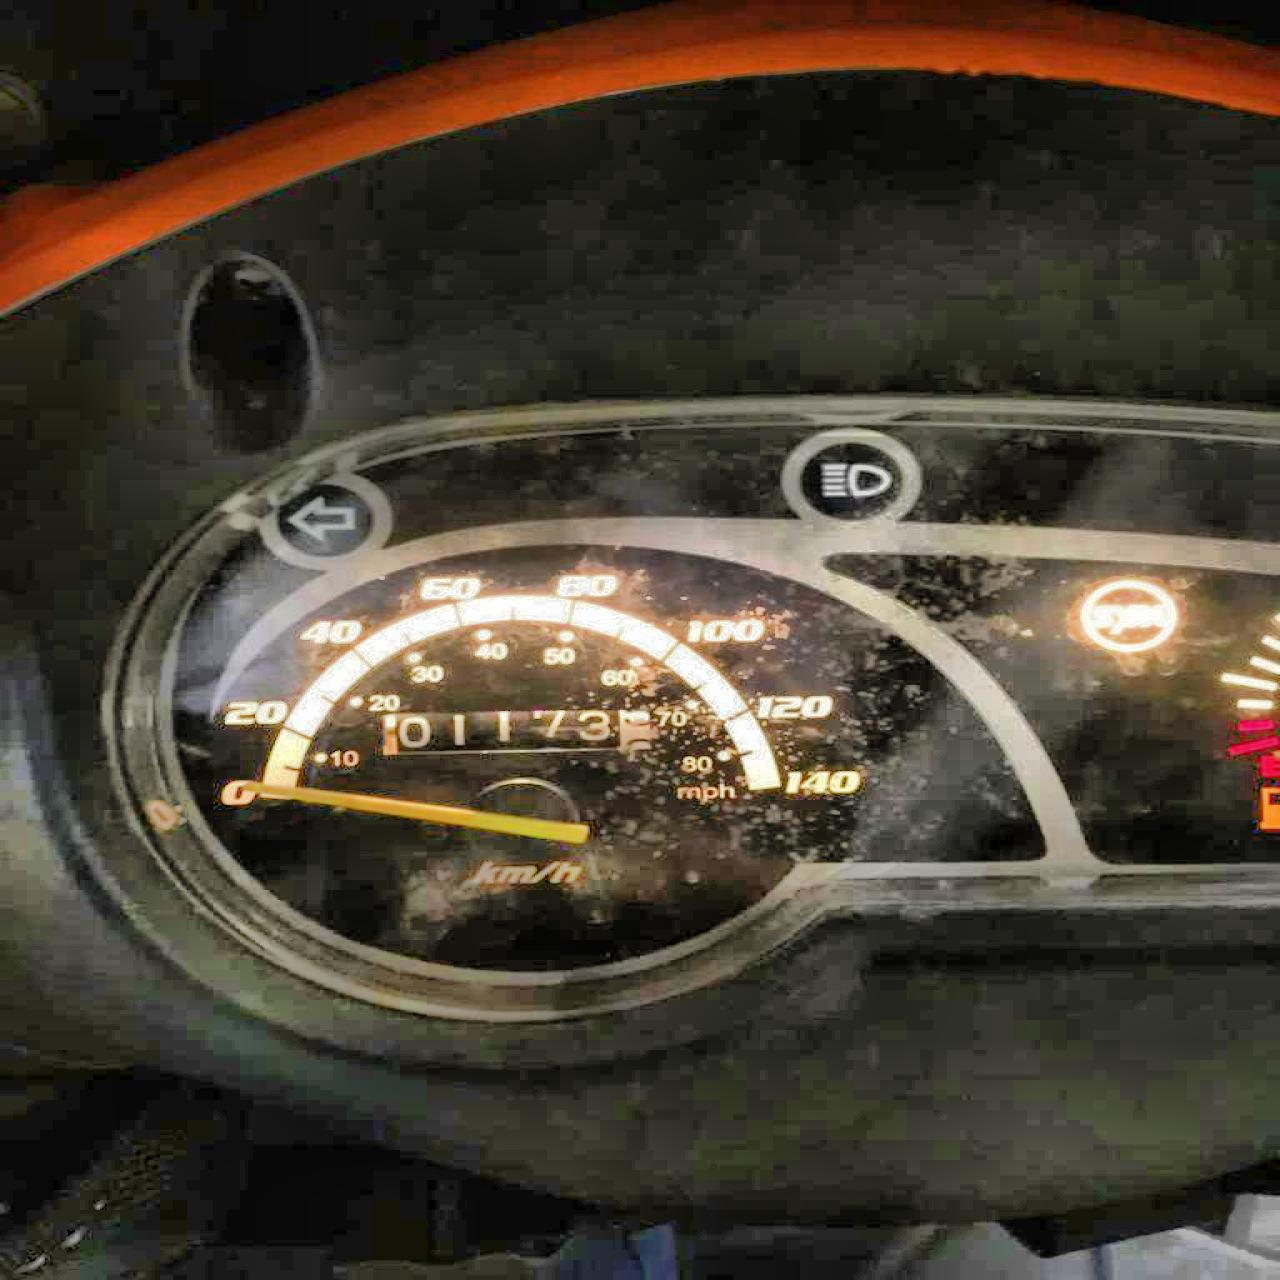0: (395, 713, 430, 748)
1: (490, 708, 515, 742), (447, 710, 468, 748)
3: (573, 709, 612, 741)
5: (620, 706, 653, 726)
6: (620, 734, 655, 750)
7: (529, 708, 565, 738)
odometer: (373, 707, 656, 757)
